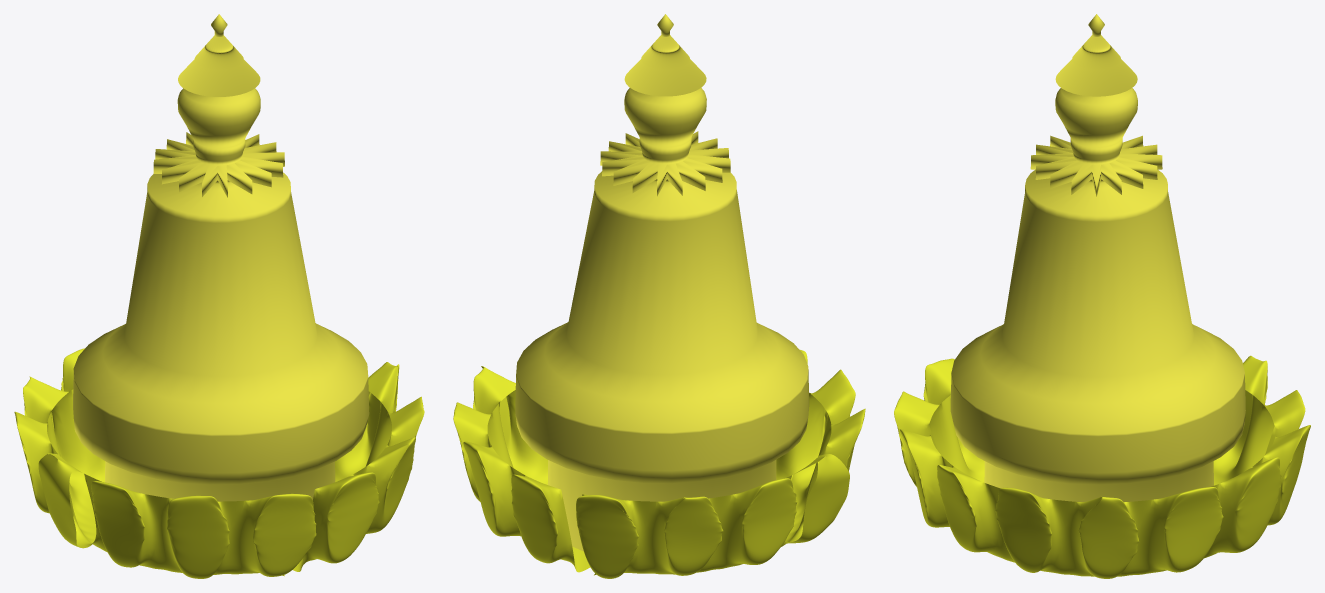
Rendered from Gajur.fbx.
3 renders of one model, left to right at view 1: azimuth 30°, elevation 25°; view 2: azimuth 150°, elevation 25°; view 3: azimuth 270°, elevation 25°, orthographic.
Parts seen in each view (by area): view 1: Cylinder.001, Cylinder; view 2: Cylinder.001, Cylinder; view 3: Cylinder.001, Cylinder.
Part boxes in pixels (box(x1,y1,x2,y2)): Cylinder.001: box(73, 14, 369, 501); Cylinder: box(14, 348, 424, 578); Cylinder.001: box(515, 14, 809, 551); Cylinder: box(453, 350, 865, 578); Cylinder.001: box(950, 14, 1245, 501); Cylinder: box(894, 355, 1310, 578).
Size of the model in its own units: 283 by 395 by 294.
